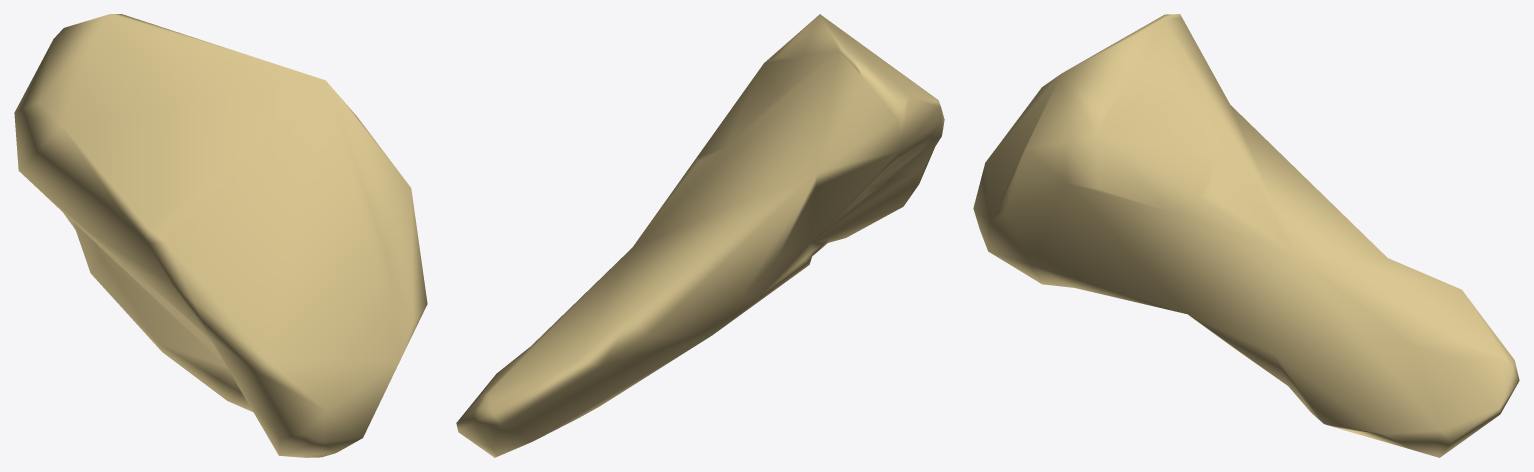
3 renders of one model, left to right at view 1: azimuth 30°, elevation 25°; view 2: azimuth 150°, elevation 25°; view 3: azimuth 270°, elevation 25°, orthographic. The views are drawn at different scales.
Parts seen in each view (by area): view 1: 左侧第一指远节指骨; view 2: 左侧第一指远节指骨; view 3: 左侧第一指远节指骨.
Boxes of the visible parts, x1,y1,x2,y2 form: 左侧第一指远节指骨: (14,14,427,457); 左侧第一指远节指骨: (456,14,944,457); 左侧第一指远节指骨: (973,14,1519,457).
Bounding box in the file's own units: 0.0206 × 0.0247 × 0.0356.
